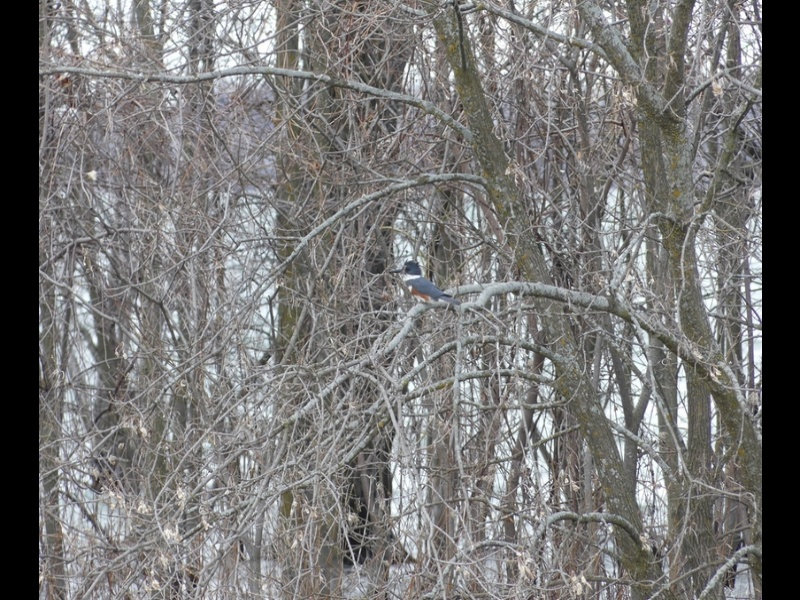kingfisher: (390, 261, 461, 312)
